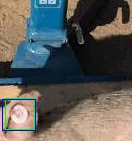text: (5, 98, 34, 129)
